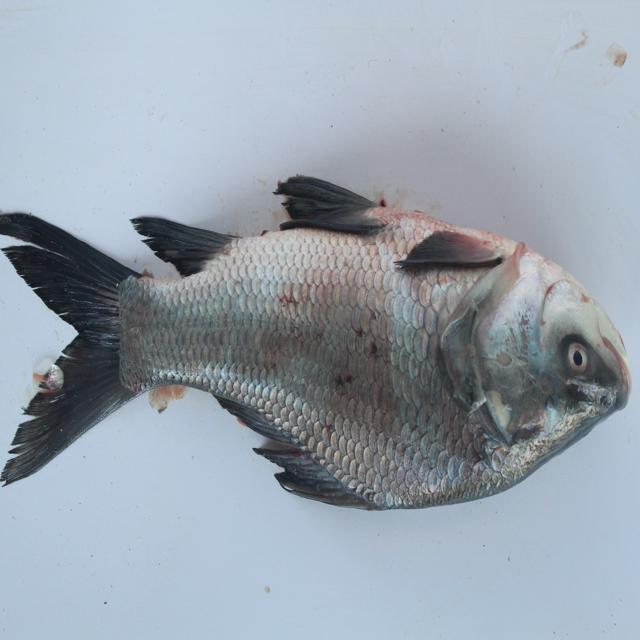Catla: (1, 158, 640, 528)
